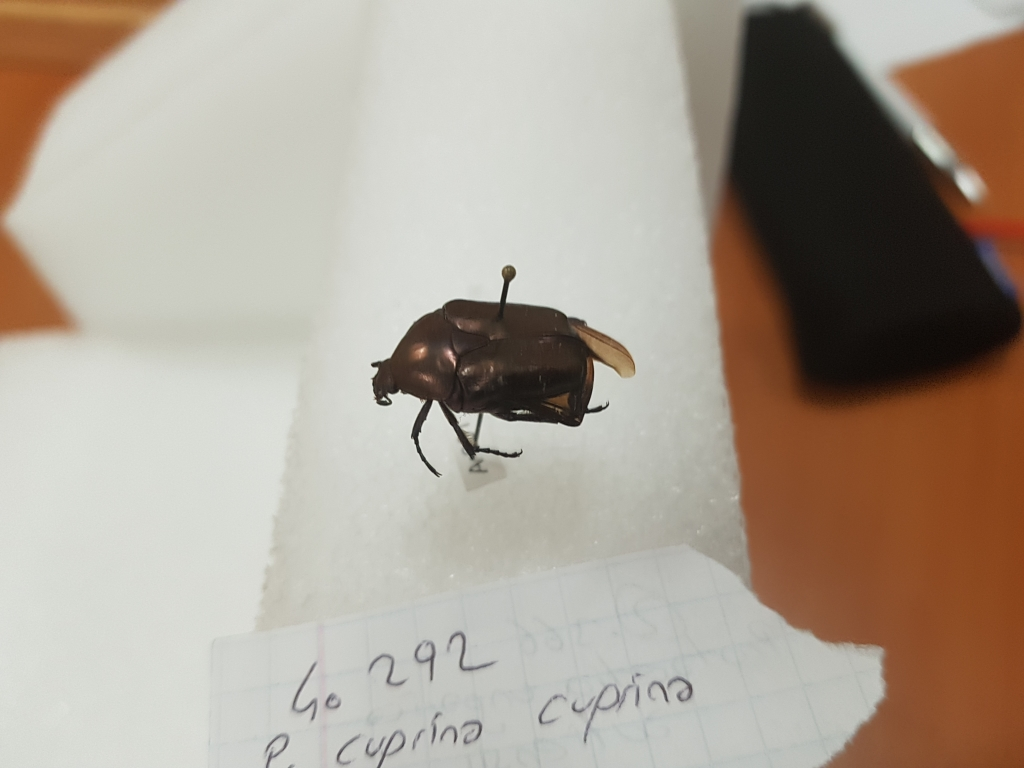Protaetia_cuprina_cuprina: (358, 285, 635, 471)
